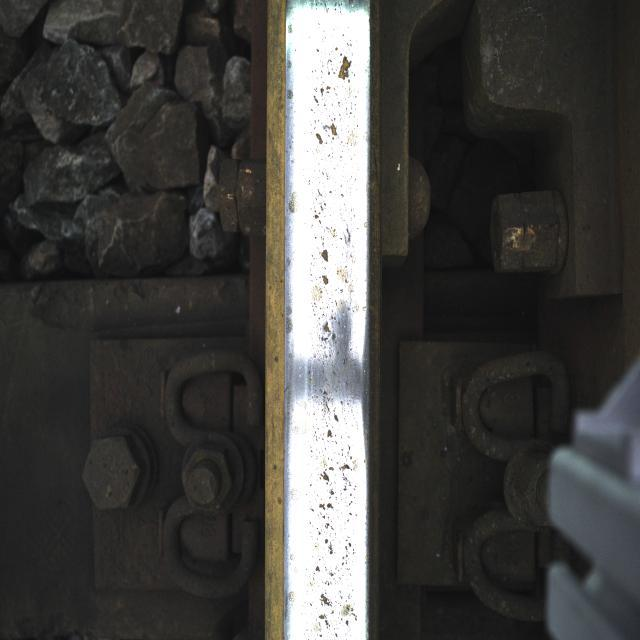scar: (295, 25, 361, 611)
